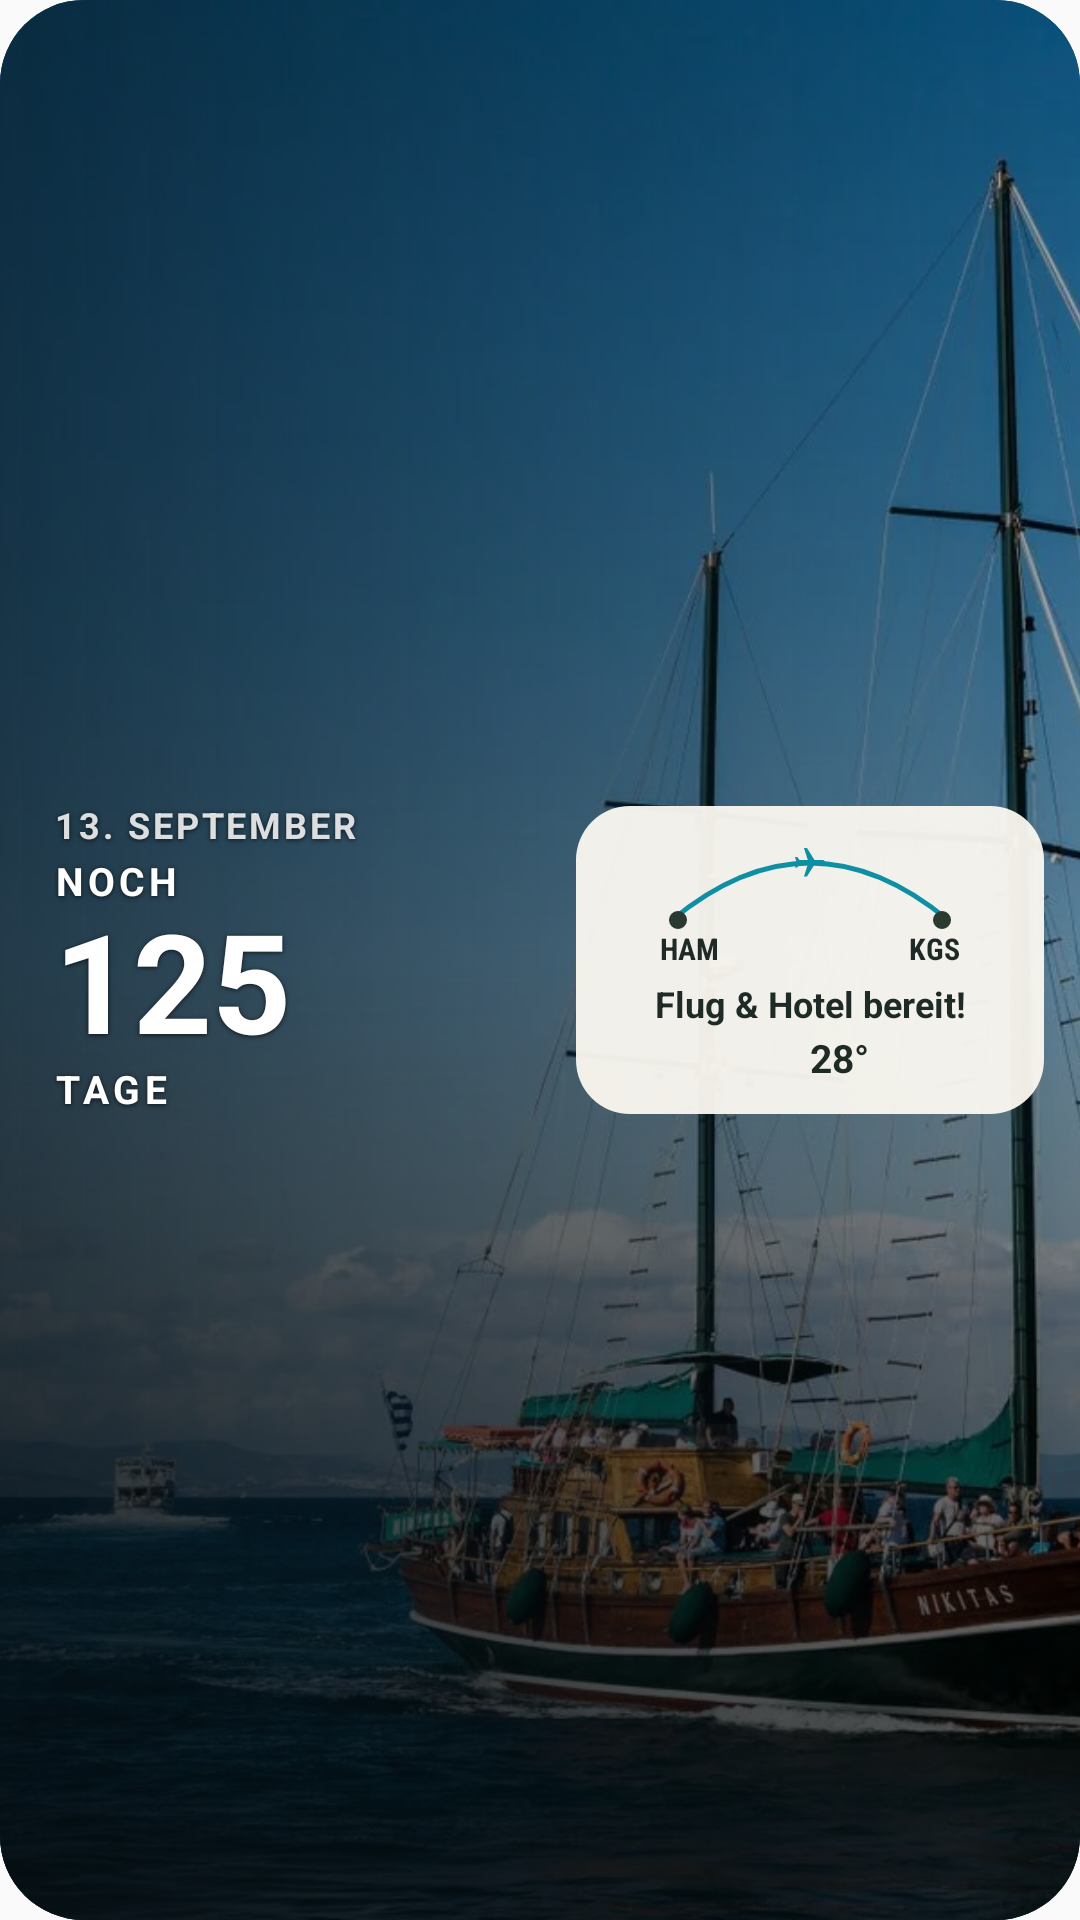

Locate icon controls on the screen. Image size 1080w x 1920h, boxes as Rect(x1, y1, x2, y2).
flight arc: Rect(669, 848, 951, 929)
